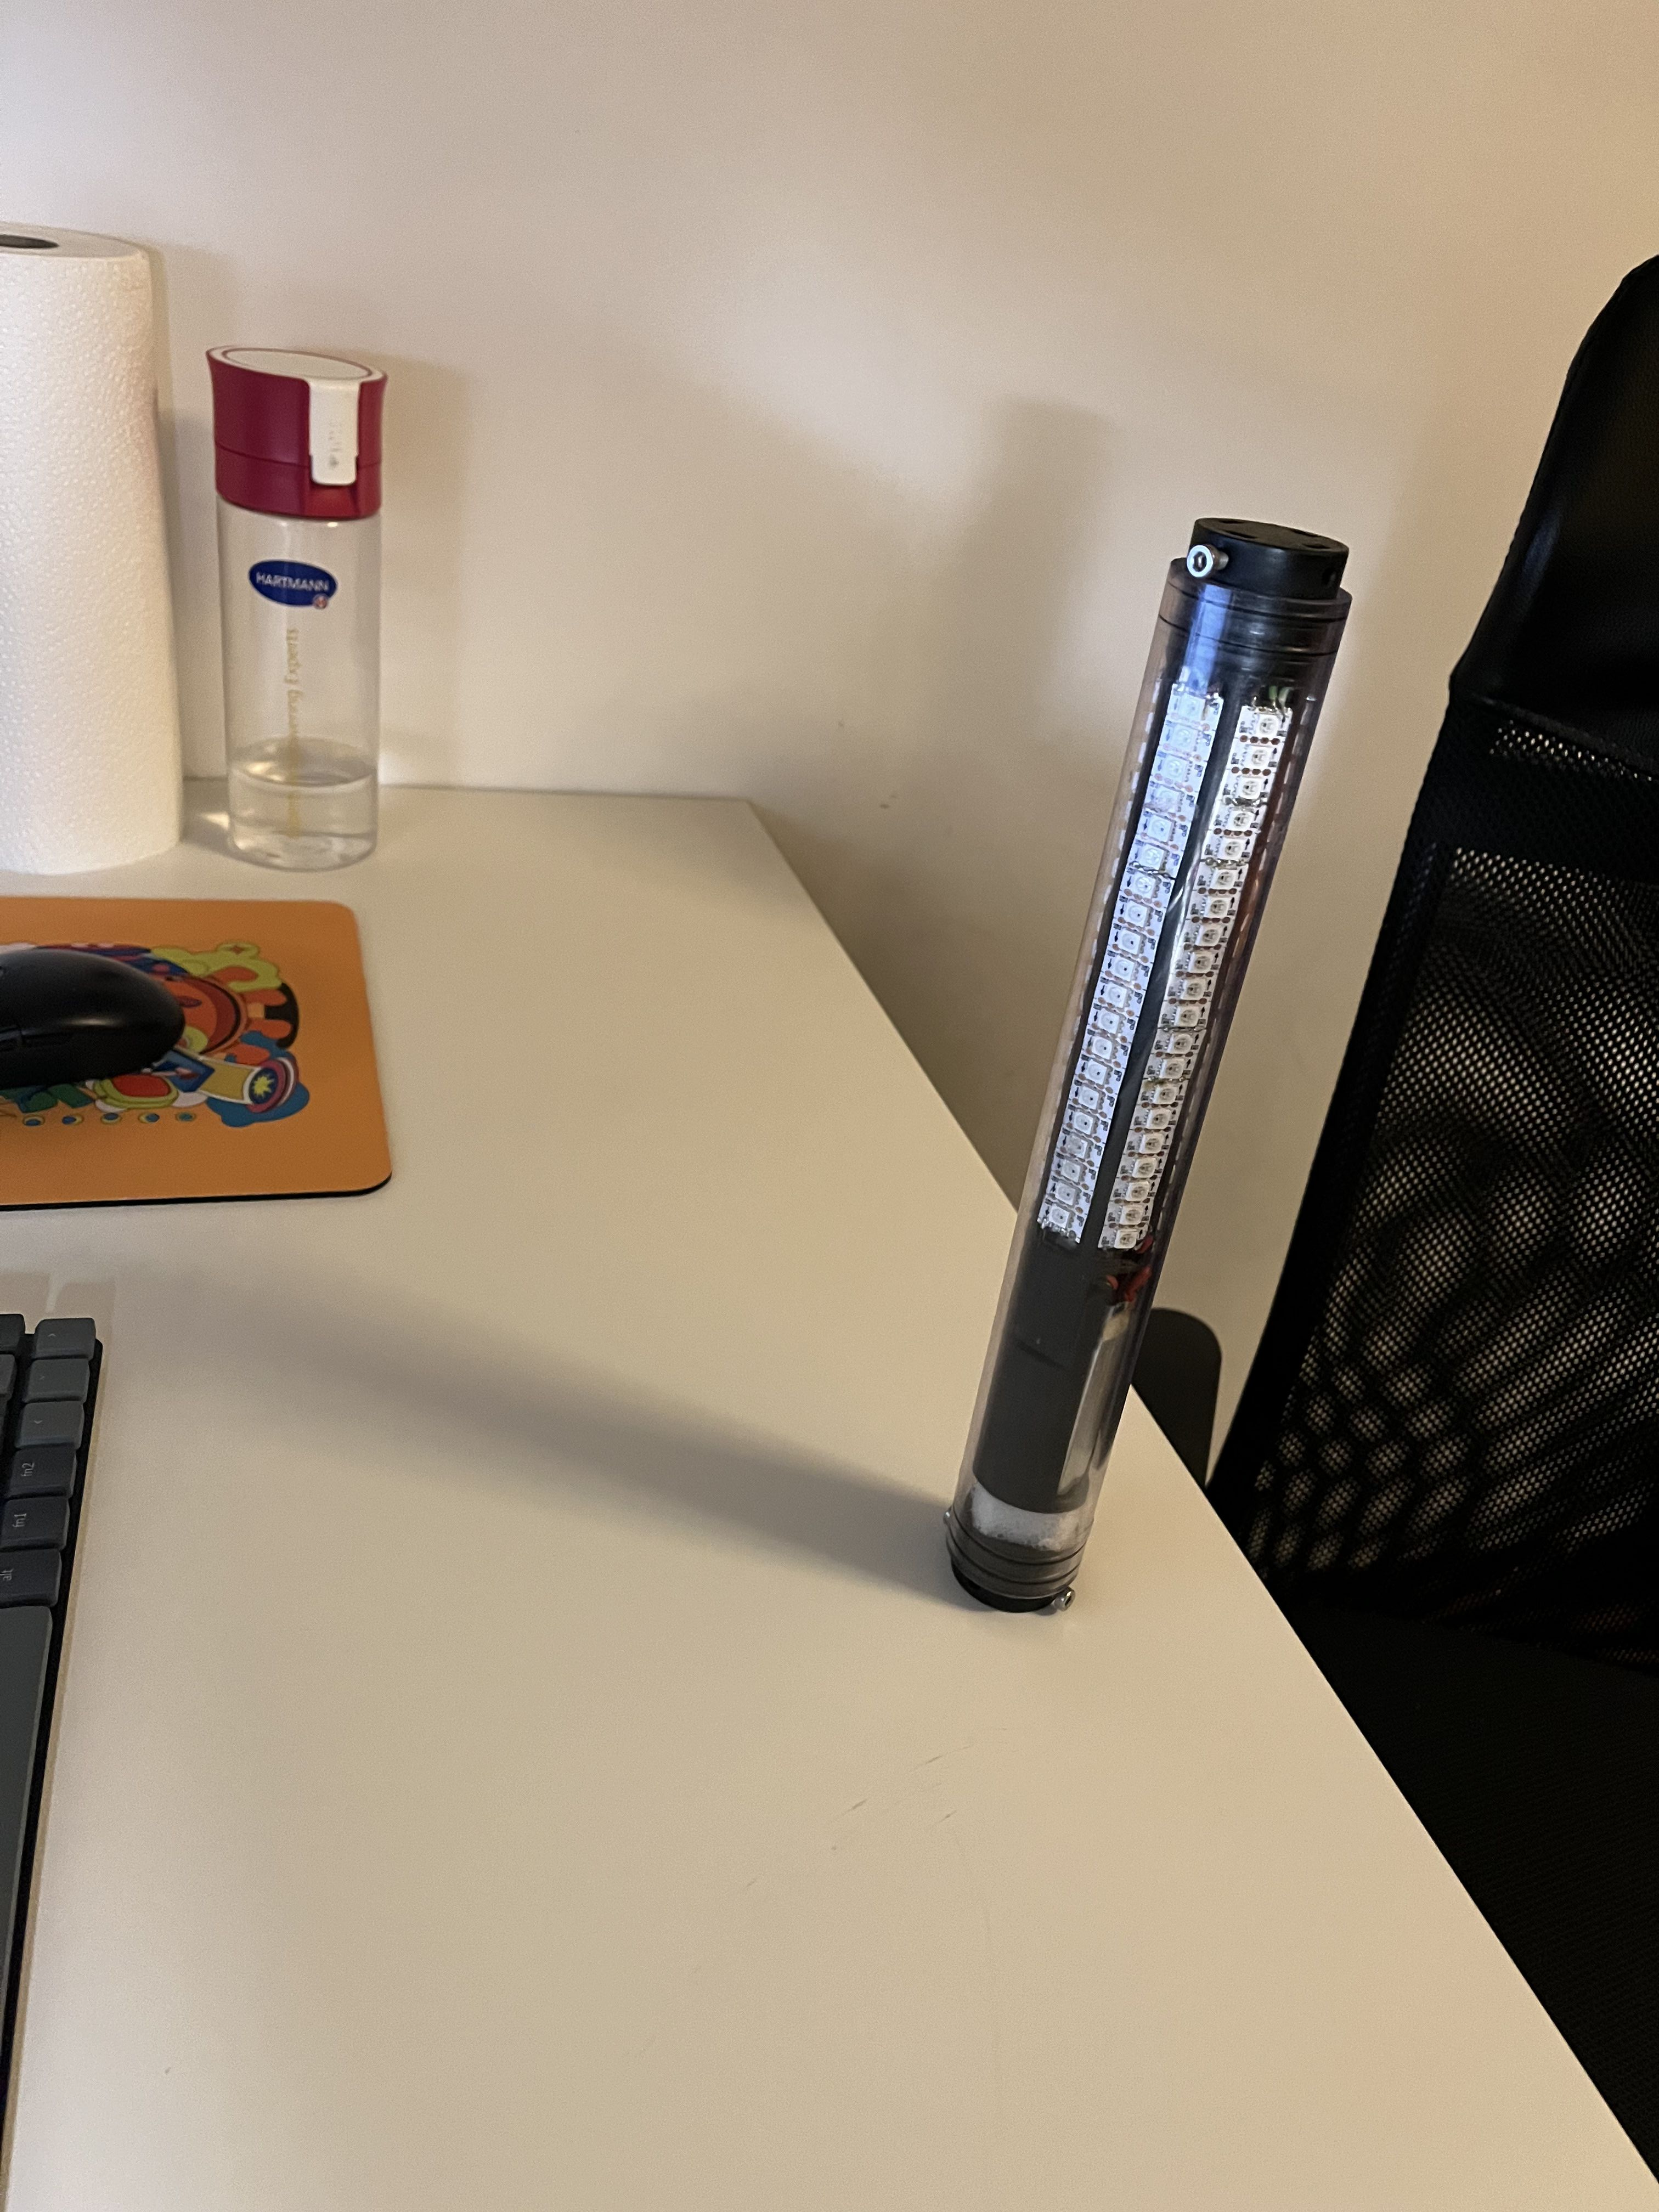black: (873, 603, 1347, 1620)
